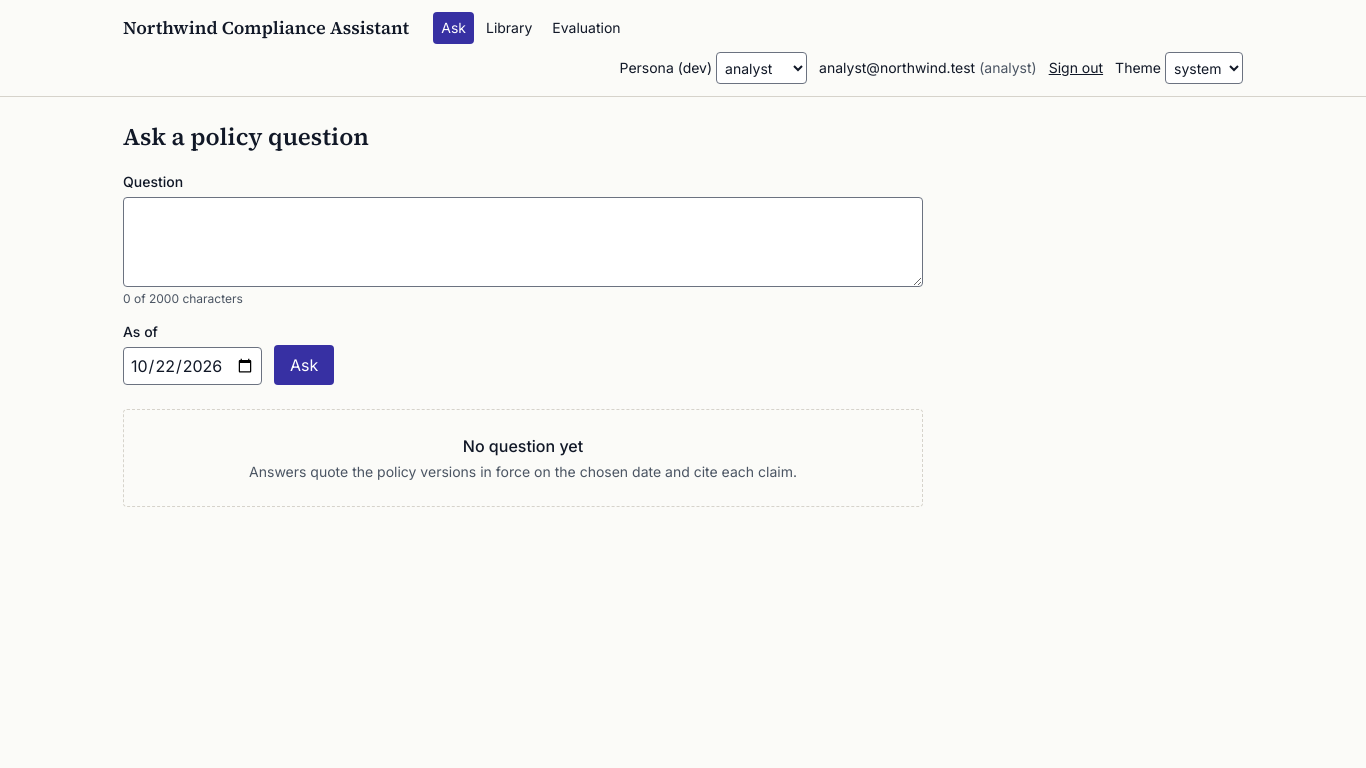
Scenario: verified claims render before final, with keyboard-reachable citation chips
In the text box labelled "Question 0 of 2000 characters": {"x": 523, "y": 242} [123,197,923,287], type "What is the maximum age of a proof-of-address document?"
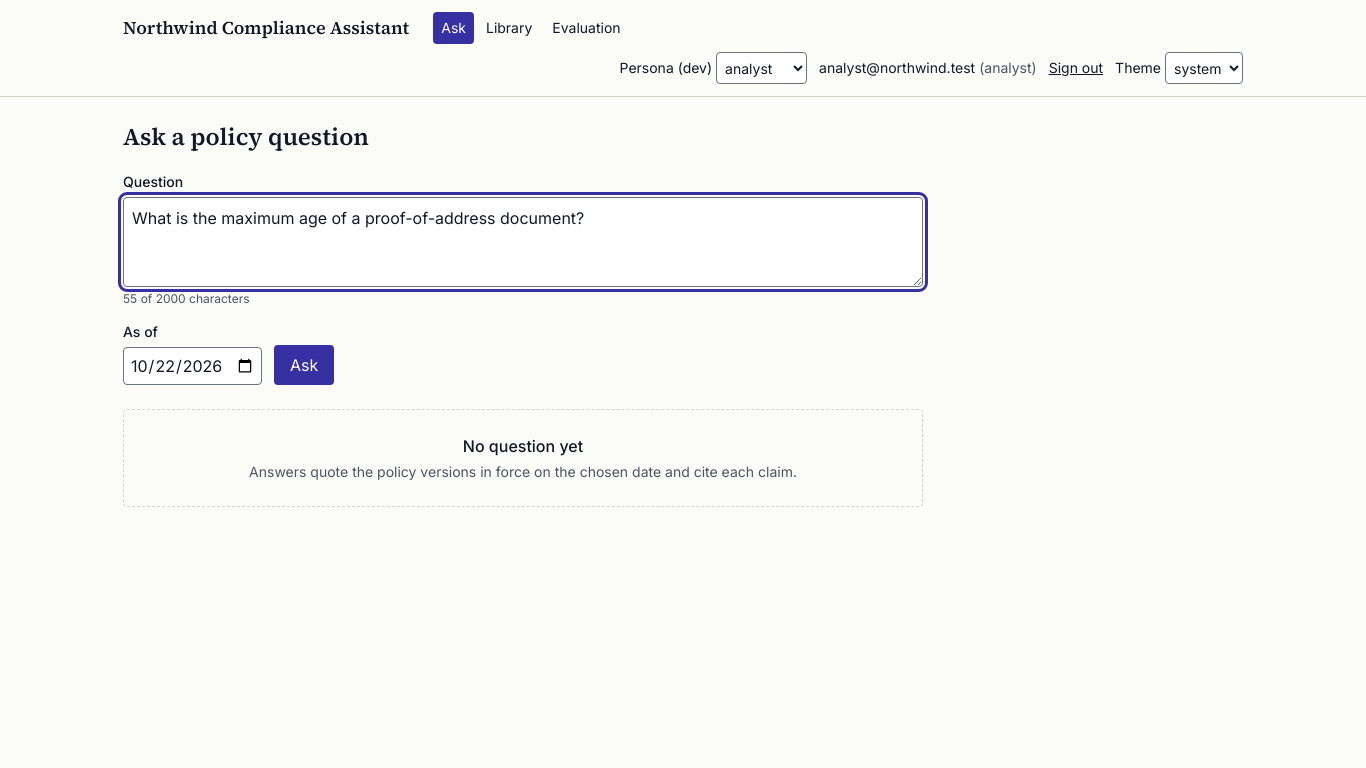
Click the button "Ask": {"x": 304, "y": 365} [274,345,334,385]
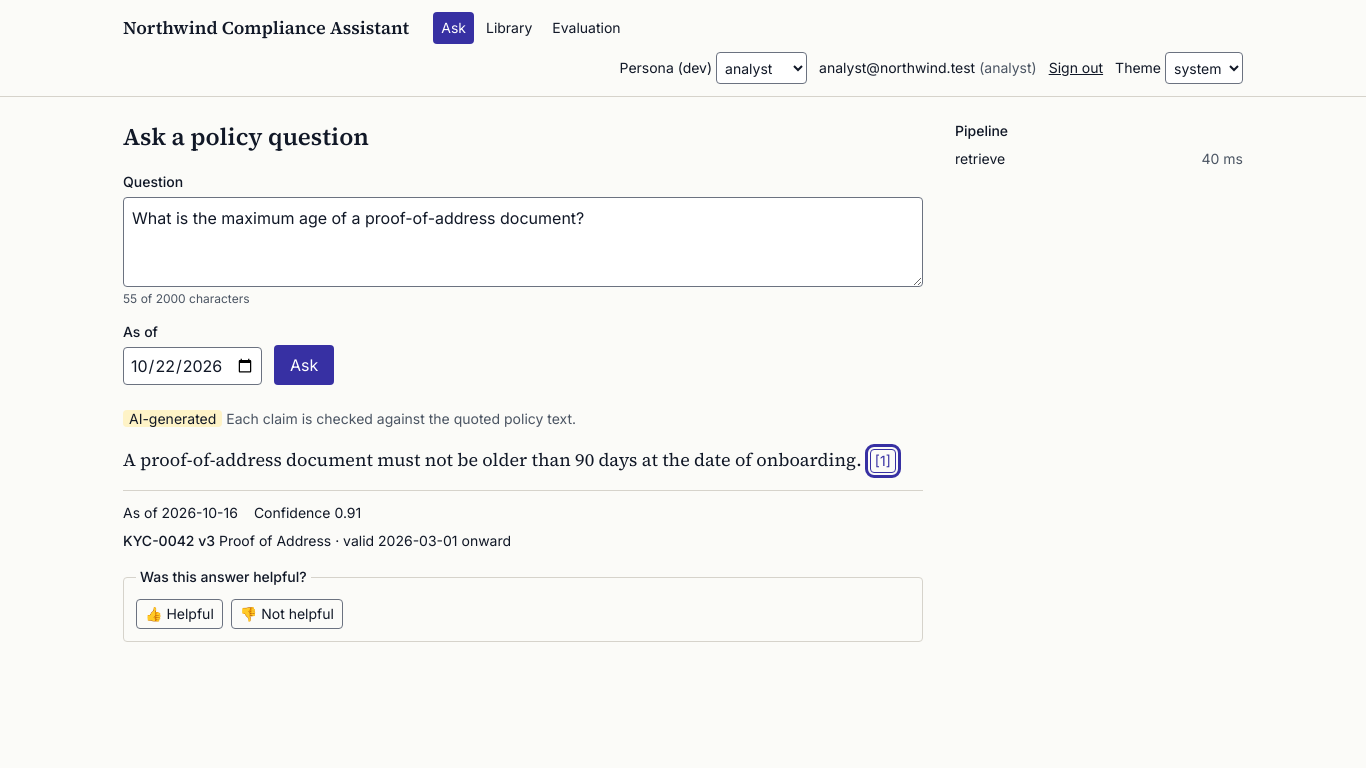
Check: the text "older than 90 days at the date of onboarding" is shown, box [123,447,862,472]
Check: the text "retrieve" is shown, box [955,149,1005,169]
Check: the text "KYC-0042 v3" is shown, box [123,532,215,549]
